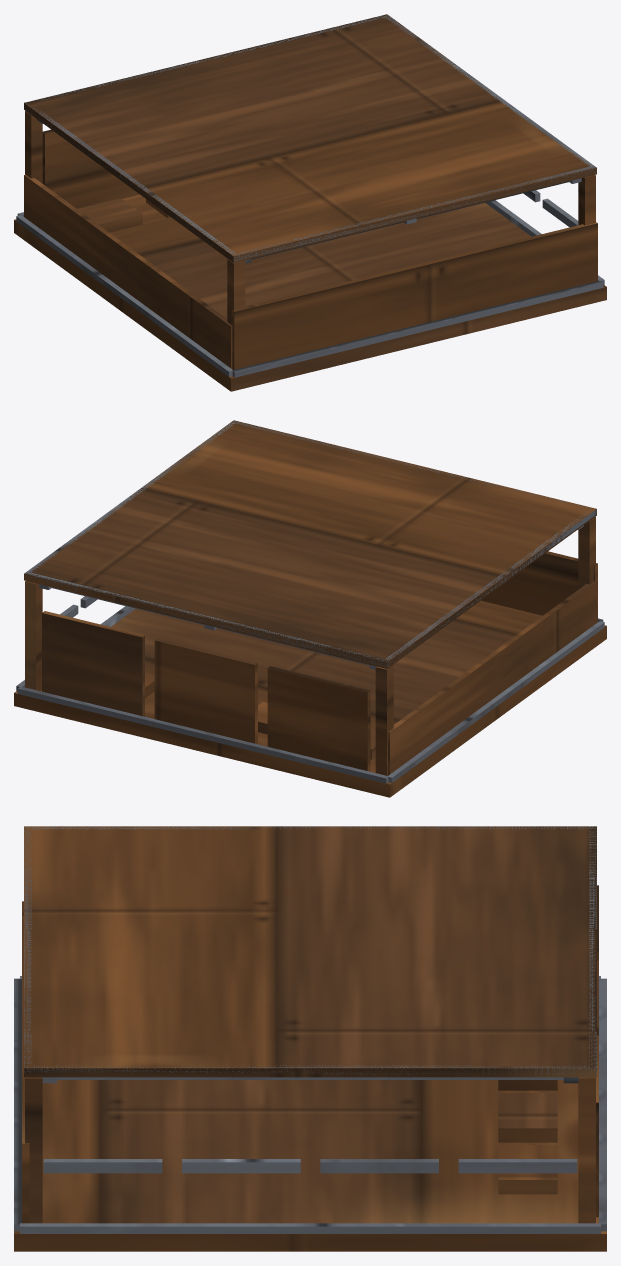
File: ConstructionStage0.glb
The picture shows the model from 3 angles, top to bottom: view 1: azimuth 30°, elevation 25°; view 2: azimuth 150°, elevation 25°; view 3: azimuth 270°, elevation 25°; orthographic projection. The views are drawn at different scales.
Visible parts, largest first — view 1: SM_HDBF_BoxFarm_ConstructionStage0; view 2: SM_HDBF_BoxFarm_ConstructionStage0; view 3: SM_HDBF_BoxFarm_ConstructionStage0.
Boxes of the visible parts, box(x1,y1,x2,y2) form: SM_HDBF_BoxFarm_ConstructionStage0: box(14, 14, 606, 391); SM_HDBF_BoxFarm_ConstructionStage0: box(14, 420, 606, 797); SM_HDBF_BoxFarm_ConstructionStage0: box(14, 826, 606, 1251).
Size of the model in its own units: 3 by 1 by 3.
2 materials, 2 textured.
